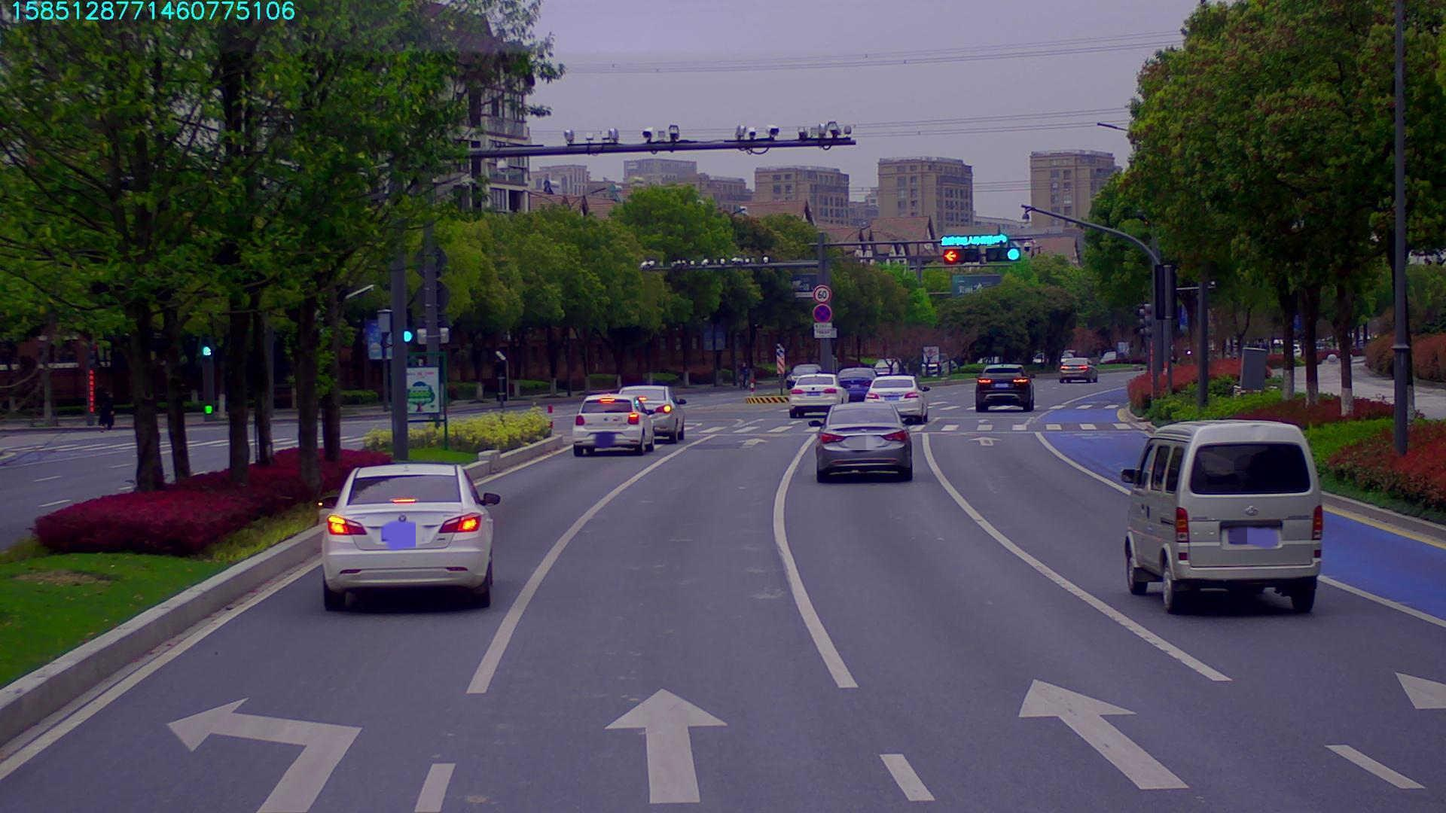green: (986, 245, 1020, 261)
red: (944, 250, 981, 262)
wait_on: (941, 233, 1006, 247)
